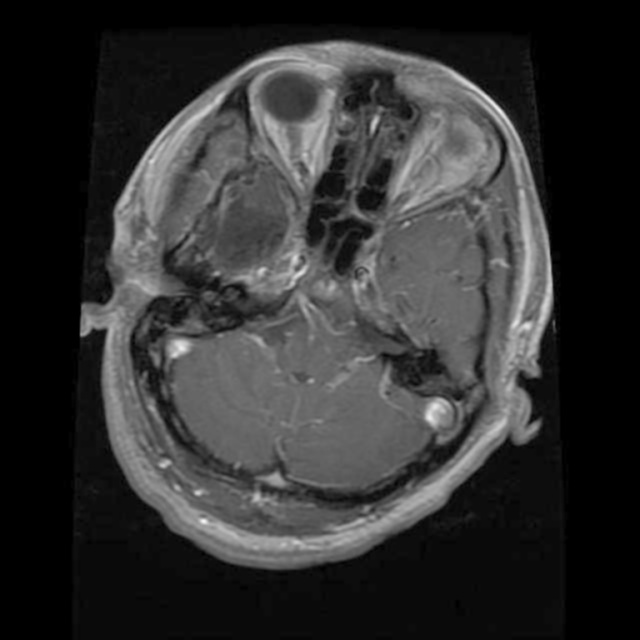pituitary tumor: (388, 124, 494, 208)
